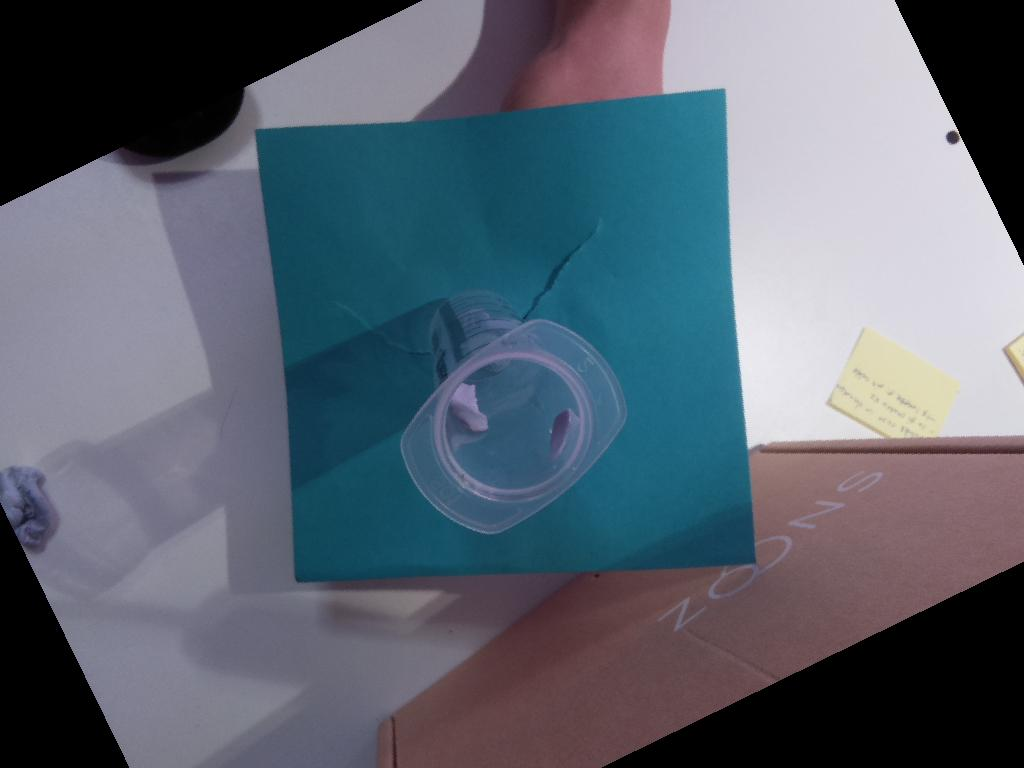dirty: (398, 318, 628, 534)
